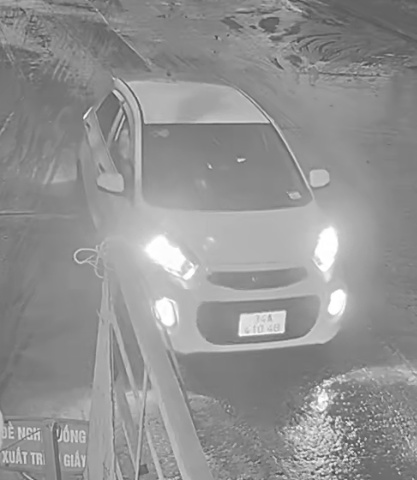vehicle plate: (240, 310, 289, 338)
